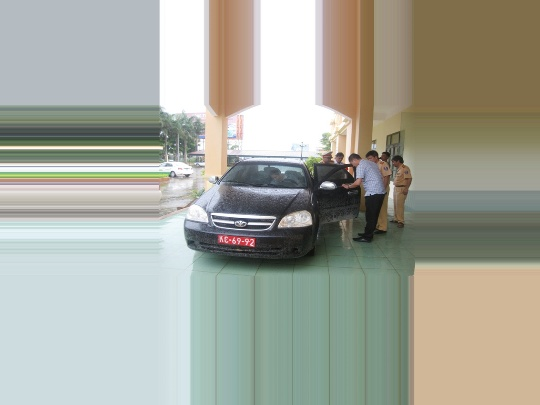plate: (217, 231, 257, 251)
